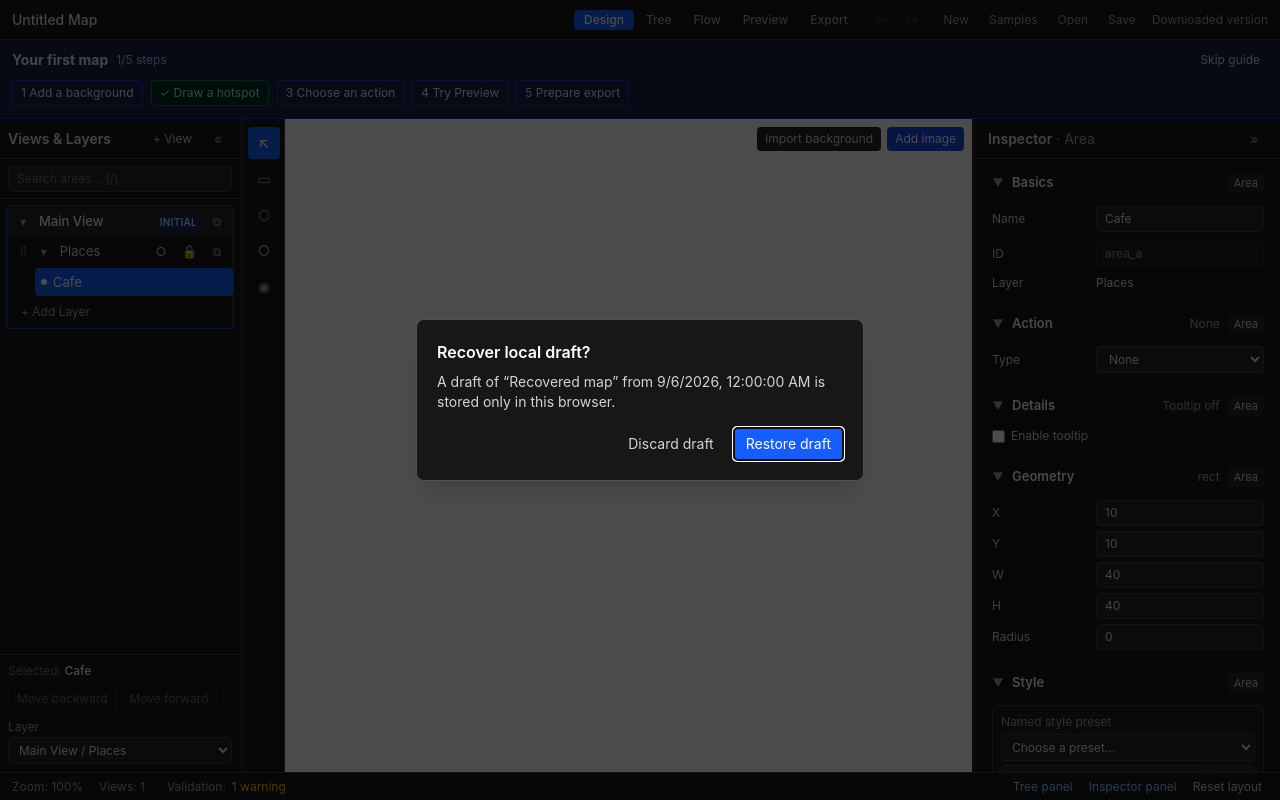
Scenario: modal dialogs › recovery: requires an explicit choice
Press Escape
Expected: the dialog "Recover local draft?" is shown, [416, 319, 864, 481]
Background shortcuts cannot replace or export the project meanwhile.
Type keys "{Control>}e{/Control}"
Click the button "Restore draft" at (788, 444), box [734, 428, 843, 460]
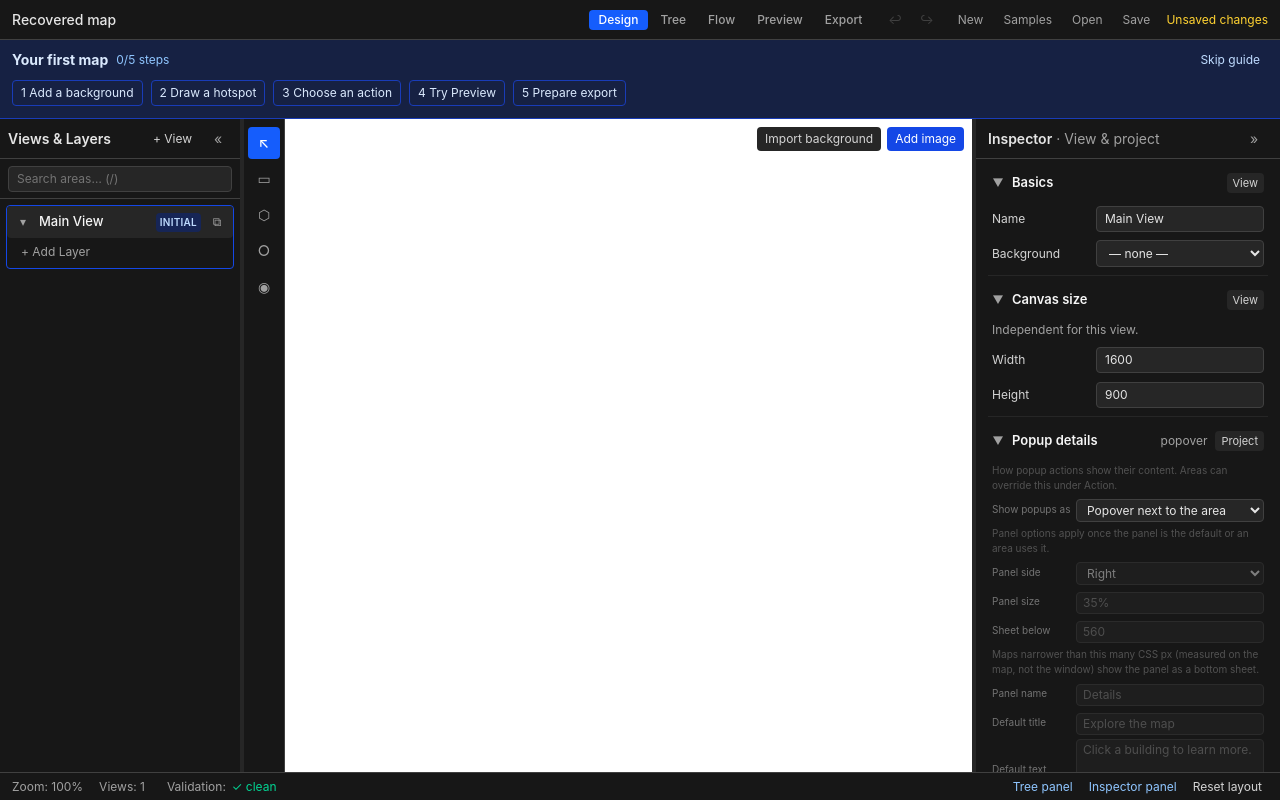
Now the button "Recovered map" is shown, box [12, 10, 116, 30]
